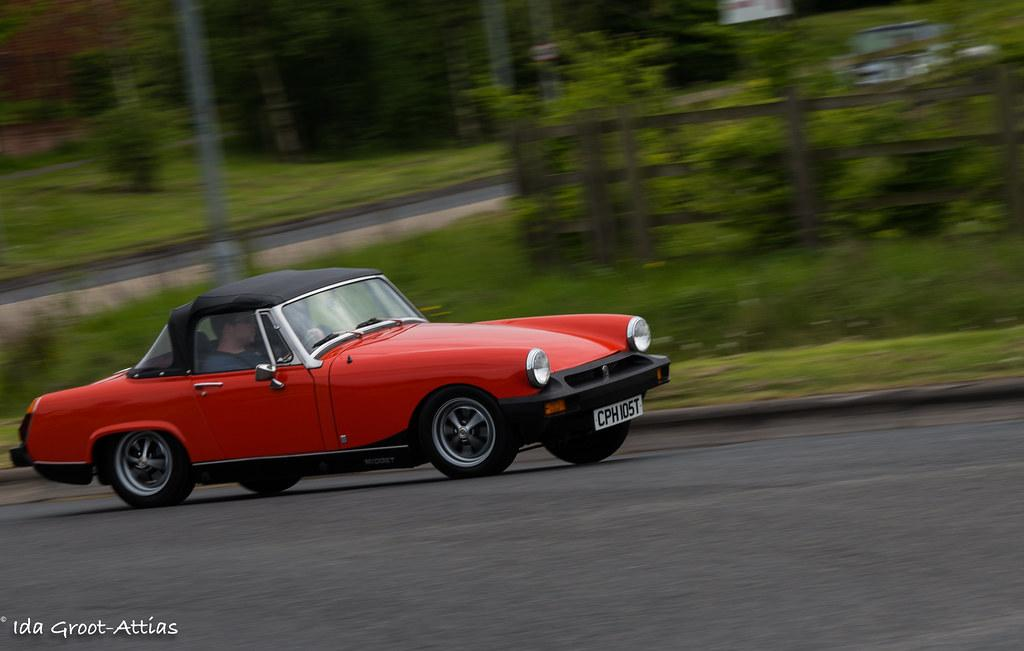car: (10, 267, 672, 510)
